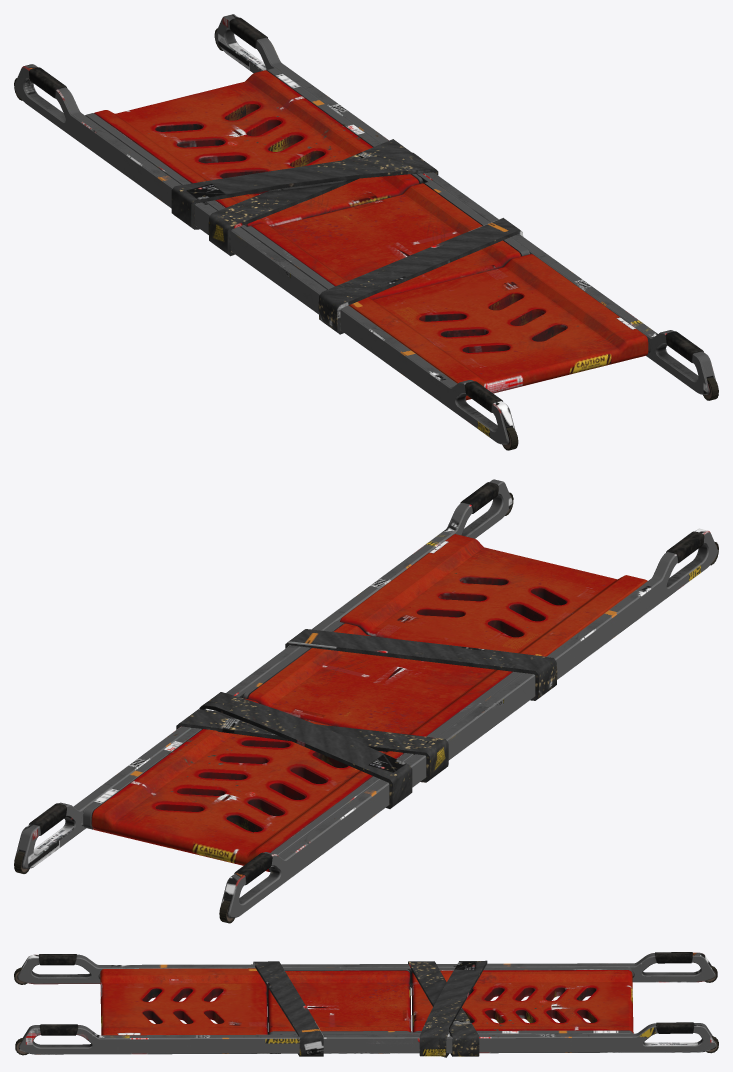
The model's file is stretcher.fbx.
3 views of the same model, one above another, from view 1: azimuth 30°, elevation 25°; view 2: azimuth 150°, elevation 25°; view 3: azimuth 270°, elevation 25° (orthographic). The views are drawn at different scales.
Parts seen in each view (by area): view 1: stretcher; view 2: stretcher; view 3: stretcher.
Boxes of the visible parts, x1,y1,x2,y2 form: stretcher: (14,14,718,450); stretcher: (14,479,718,923); stretcher: (14,952,718,1057).
Bounding box in the file's own units: 64.97 × 12.85 × 251.
1 material, 1 textured.
